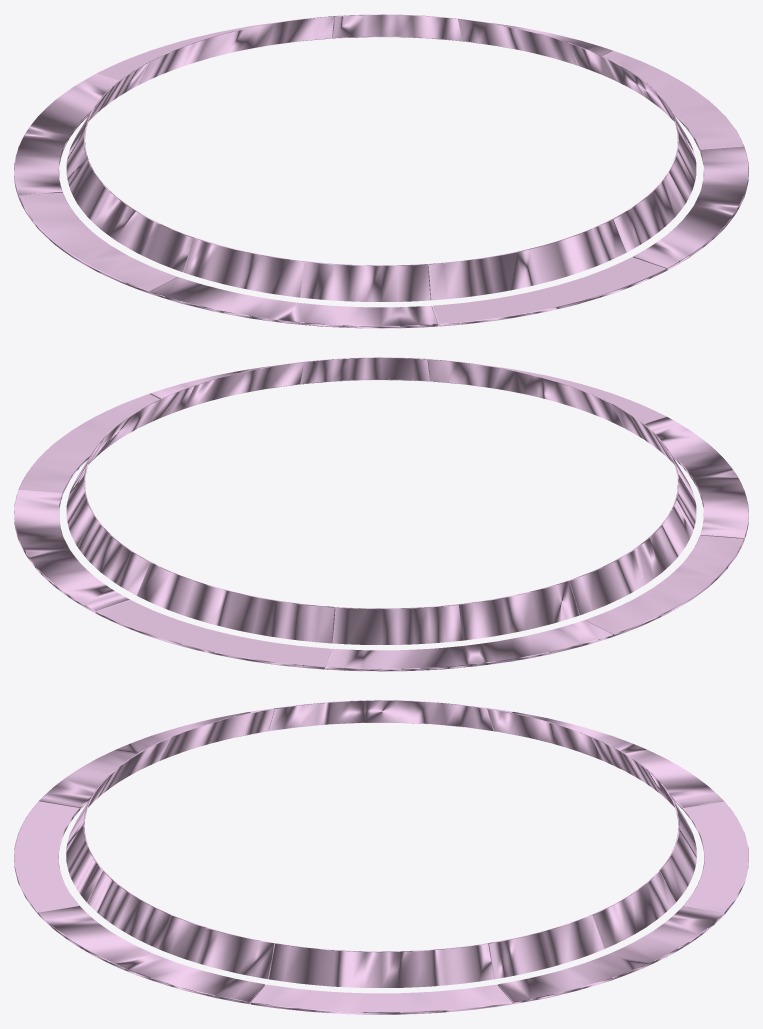
Rendered from orison_sp_int_floor_lounge_b_glass.glb.
The picture shows the model from 3 angles, top to bottom: view 1: azimuth 30°, elevation 25°; view 2: azimuth 150°, elevation 25°; view 3: azimuth 270°, elevation 25°; orthographic projection.
Bounding box in the file's own units: 9.23 × 0.4647 × 9.21.
